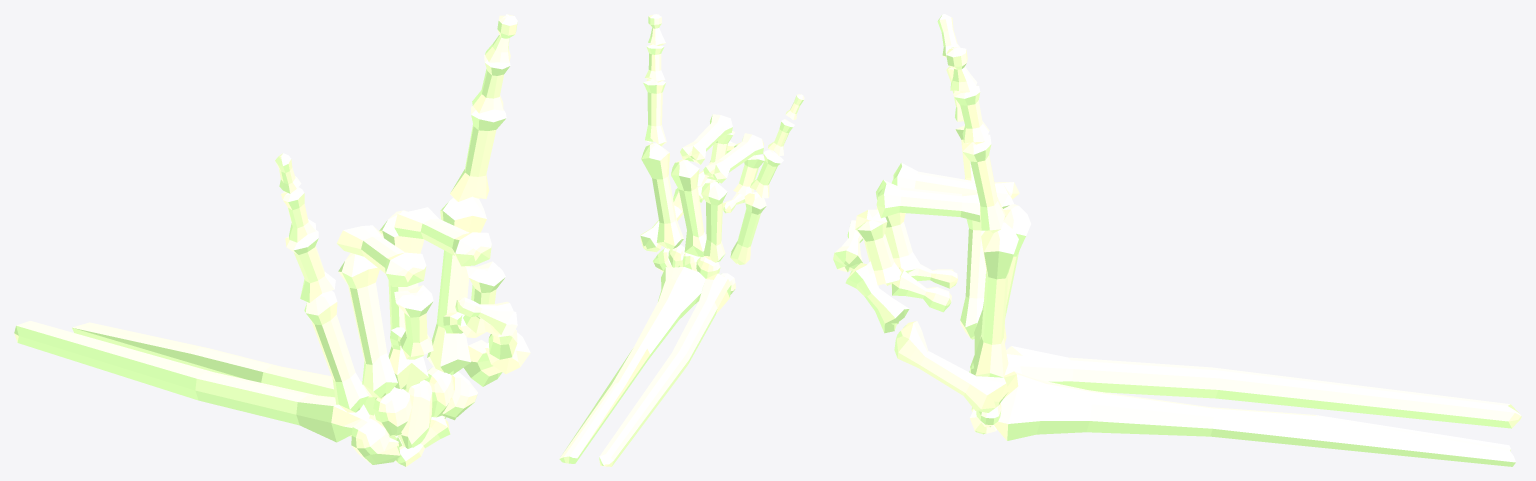
File: hand pose 4.fbx
The picture shows the model from 3 angles, left to right: view 1: azimuth 30°, elevation 25°; view 2: azimuth 150°, elevation 25°; view 3: azimuth 270°, elevation 25°; orthographic projection. The views are drawn at different scales.
Visible parts, largest first — view 1: Cube; view 2: Cube; view 3: Cube.
Part boxes in pixels (bbox=[...]): Cube: bbox=[14, 14, 530, 466]; Cube: bbox=[559, 14, 804, 466]; Cube: bbox=[833, 14, 1521, 466].
Size of the model in its own units: 97.13 by 184 by 239.
